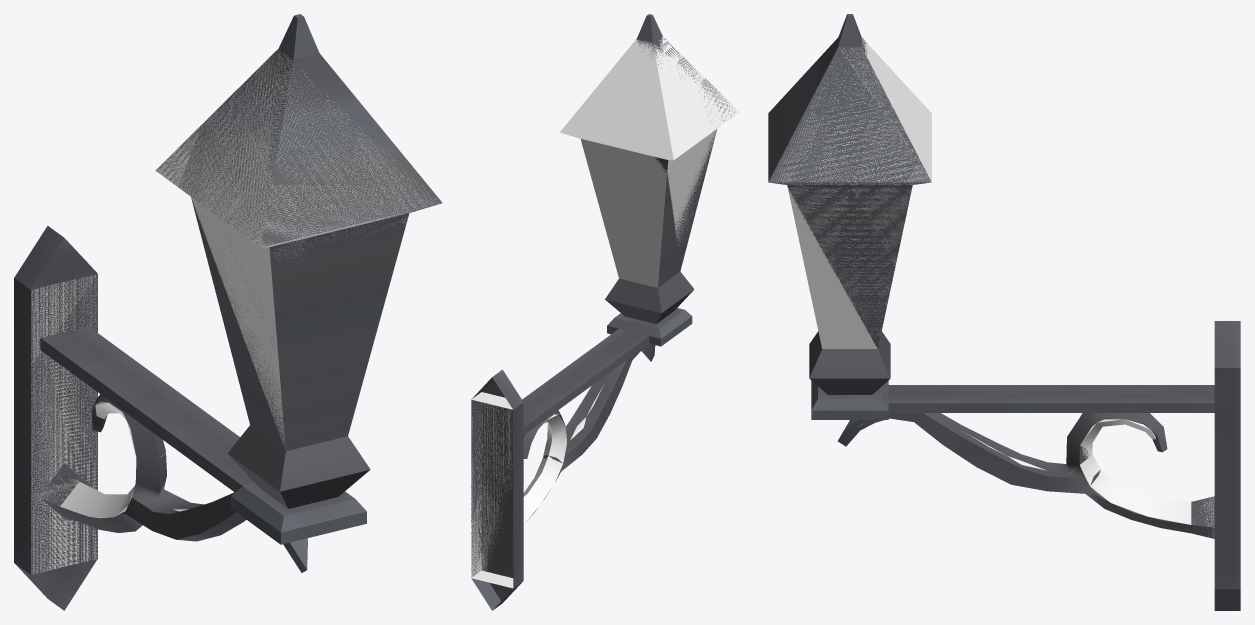
File: objects_un_walllight01.gltf
3 views of the same model, side by side, from view 1: azimuth 30°, elevation 25°; view 2: azimuth 150°, elevation 25°; view 3: azimuth 270°, elevation 25° (orthographic). The views are drawn at different scales.
Visible parts, largest first — view 1: nomerge_objects_un_walllight01_mesh1_shape:objects_un_street, objects_un_walllight01_shadow_shape:objects_un_walllight01_s; view 2: objects_un_walllight01_shadow_shape:objects_un_walllight01_s, nomerge_objects_un_walllight01_mesh1_shape:objects_un_street; view 3: nomerge_objects_un_walllight01_mesh1_shape:objects_un_street, objects_un_walllight01_shadow_shape:objects_un_walllight01_s.
Part boxes in pixels (x1=…): nomerge_objects_un_walllight01_mesh1_shape:objects_un_street: x1=14, y1=14, x2=442, y2=610; objects_un_walllight01_shadow_shape:objects_un_walllight01_s: x1=31, y1=51, x2=438, y2=574; objects_un_walllight01_shadow_shape:objects_un_walllight01_s: x1=471, y1=36, x2=739, y2=588; nomerge_objects_un_walllight01_mesh1_shape:objects_un_street: x1=471, y1=14, x2=738, y2=610; nomerge_objects_un_walllight01_mesh1_shape:objects_un_street: x1=768, y1=14, x2=1240, y2=610; objects_un_walllight01_shadow_shape:objects_un_walllight01_s: x1=771, y1=39, x2=1214, y2=538.
Size of what is drawn, in the model's own units: 0.2762 by 1.11 by 0.7977.
Materials: 2 (1 with a texture image).
